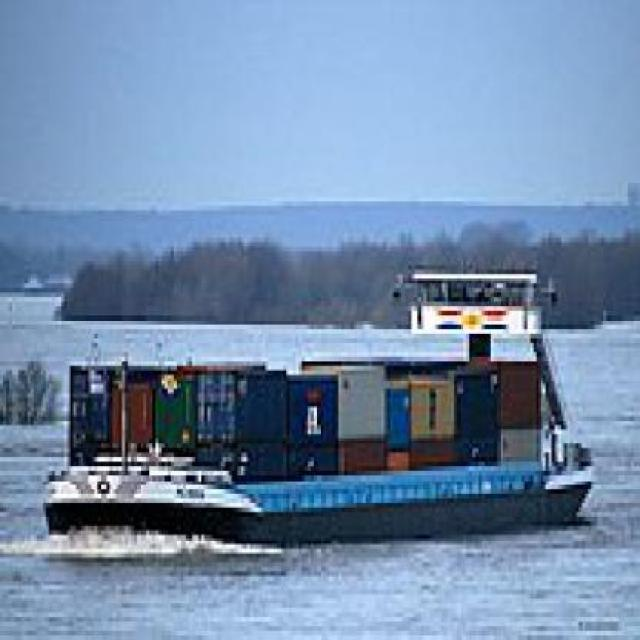container: (34, 248, 605, 559)
